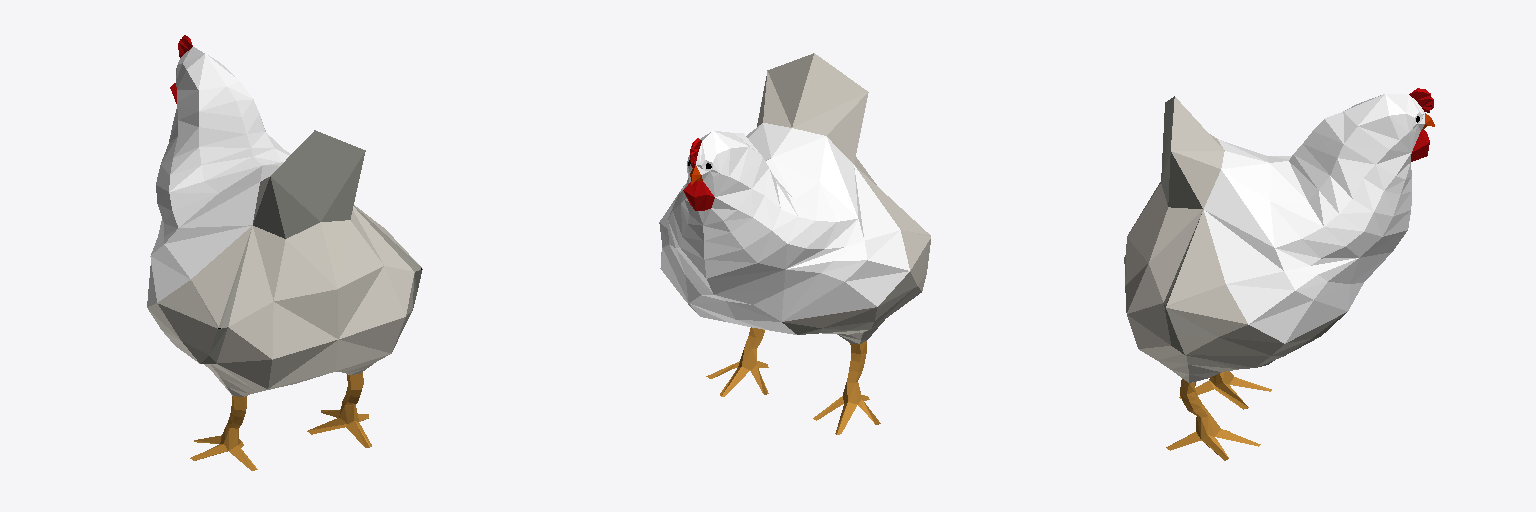
File: frame9.obj
The picture shows the model from 3 angles: view 1: azimuth 30°, elevation 25°; view 2: azimuth 150°, elevation 25°; view 3: azimuth 270°, elevation 25°; orthographic projection.
Parts seen in each view (by area): view 1: frame11:Chicken; view 2: frame11:Chicken; view 3: frame11:Chicken.
Boxes of the visible parts, <box> form: frame11:Chicken: <box>147,35,422,470</box>; frame11:Chicken: <box>659,53,930,434</box>; frame11:Chicken: <box>1124,88,1434,460</box>.
Bounding box in the file's own units: 2.14 × 2.86 × 2.39.